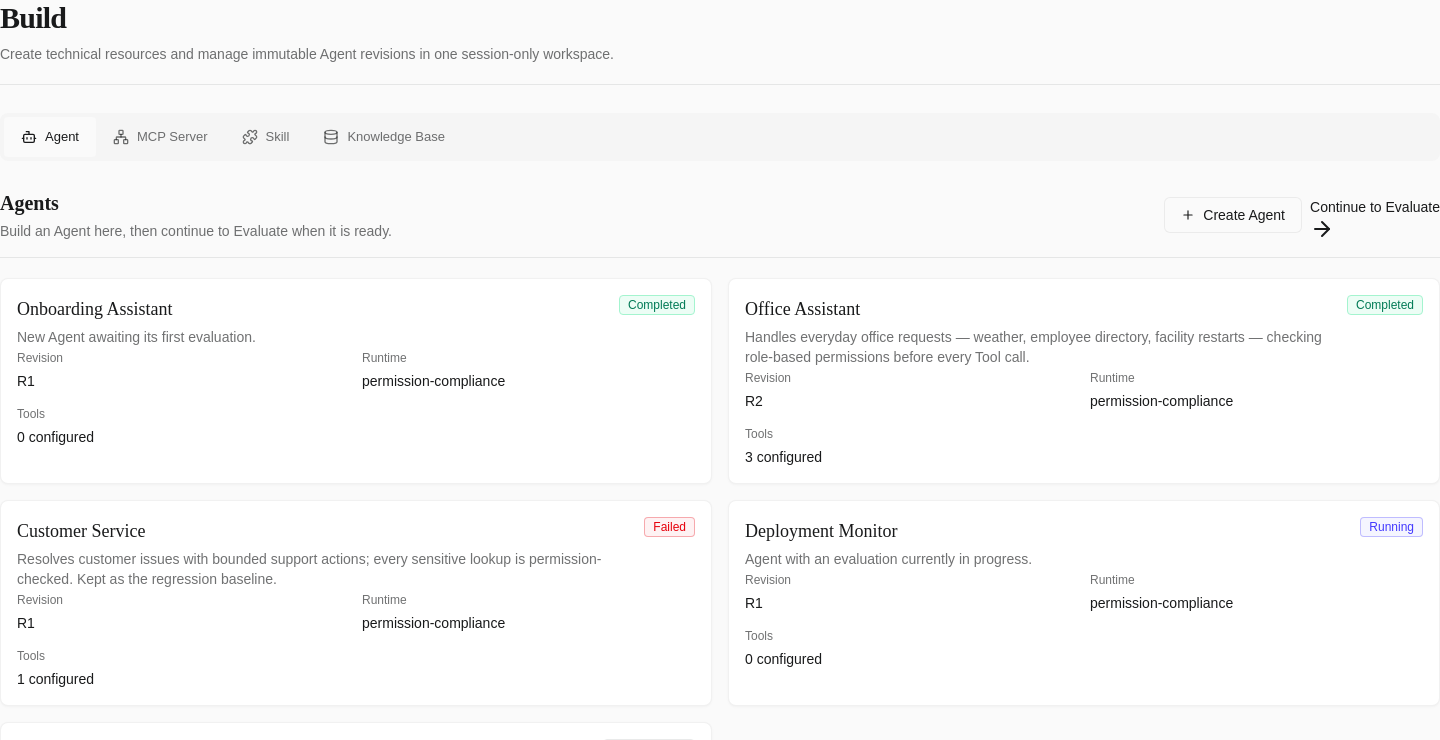
Test: opens a demo Agent build in a right-side detail sheet without a My Builds list
The width and height of the screenshot is (1440, 740).
Check: the heading "Build" is shown, box [0,0,66,36]
Click the button named "View Office Assistant build details". click: x=803, y=309
box: [729,295,1439,467]
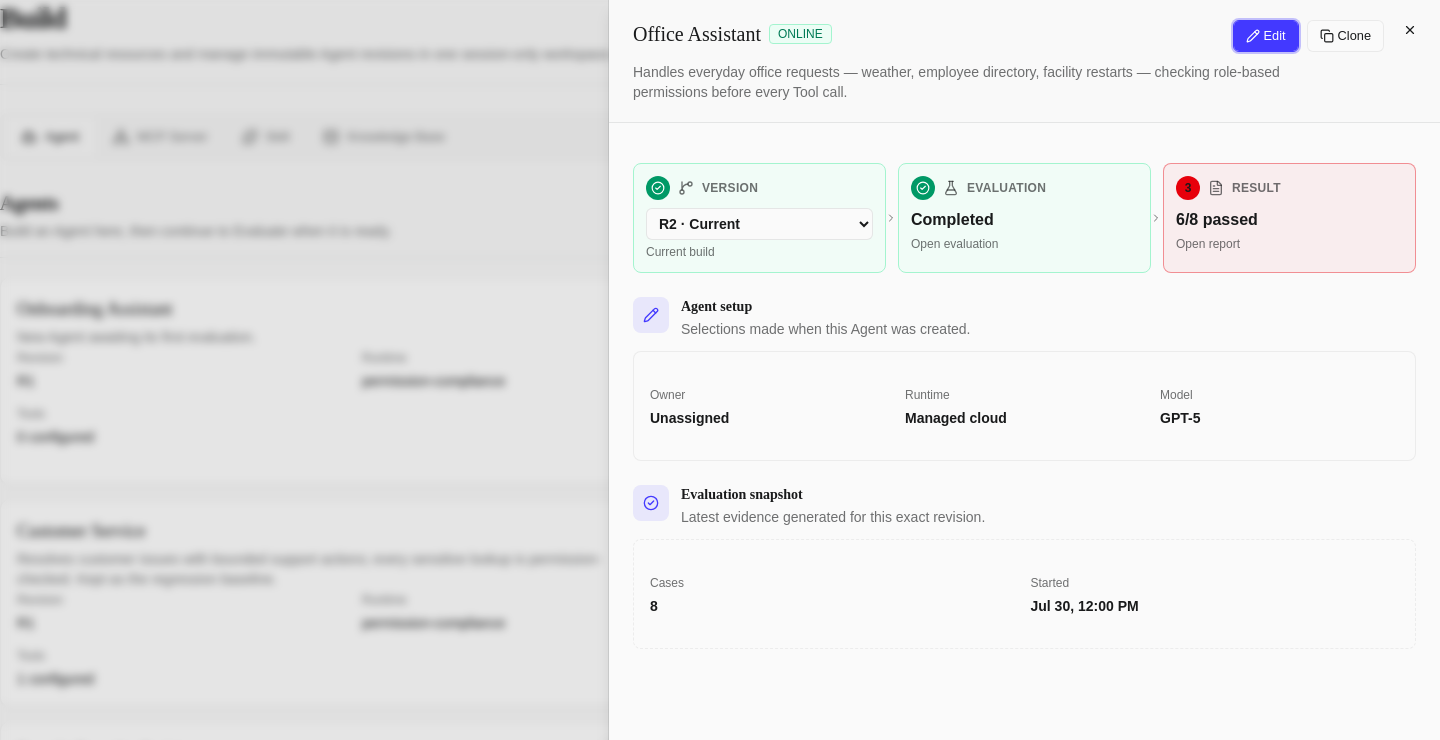
Check: the dropdown named "Build version" shows "R2 · Current"
Check: the text "6/8 passed" is shown, box [1176,211,1258,228]
Check: the link to "/individual/evaluation/runs/run-permission-baseline" is shown, box [898,163,1151,273]
Select "R1 · Previous" in the dropdown named "Build version". click: x=760, y=224
box: [646,208,873,240]
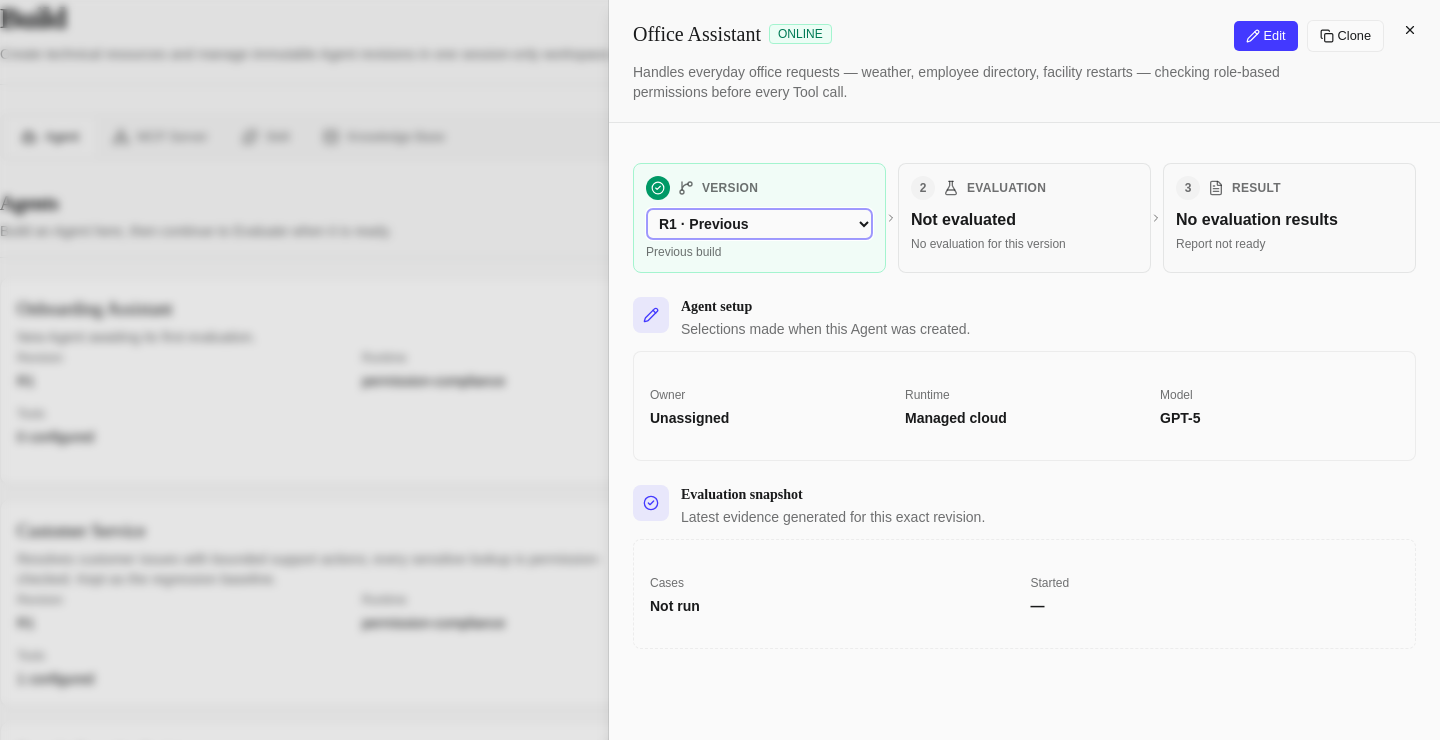
Check: the text "Previous build" is shown, box [646,245,721,259]
Check: the text "Not evaluated" is shown, box [911,211,1016,228]
Check: the text "No evaluation results" is shown, box [1176,211,1338,228]
